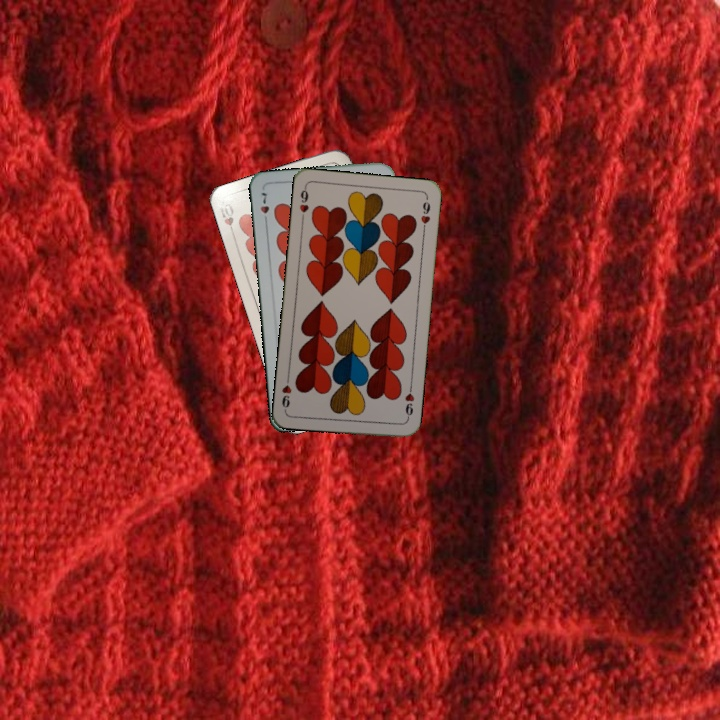H10: (215, 199, 238, 240)
H7: (256, 187, 272, 227)
H9: (401, 382, 417, 423), (296, 183, 311, 224)
